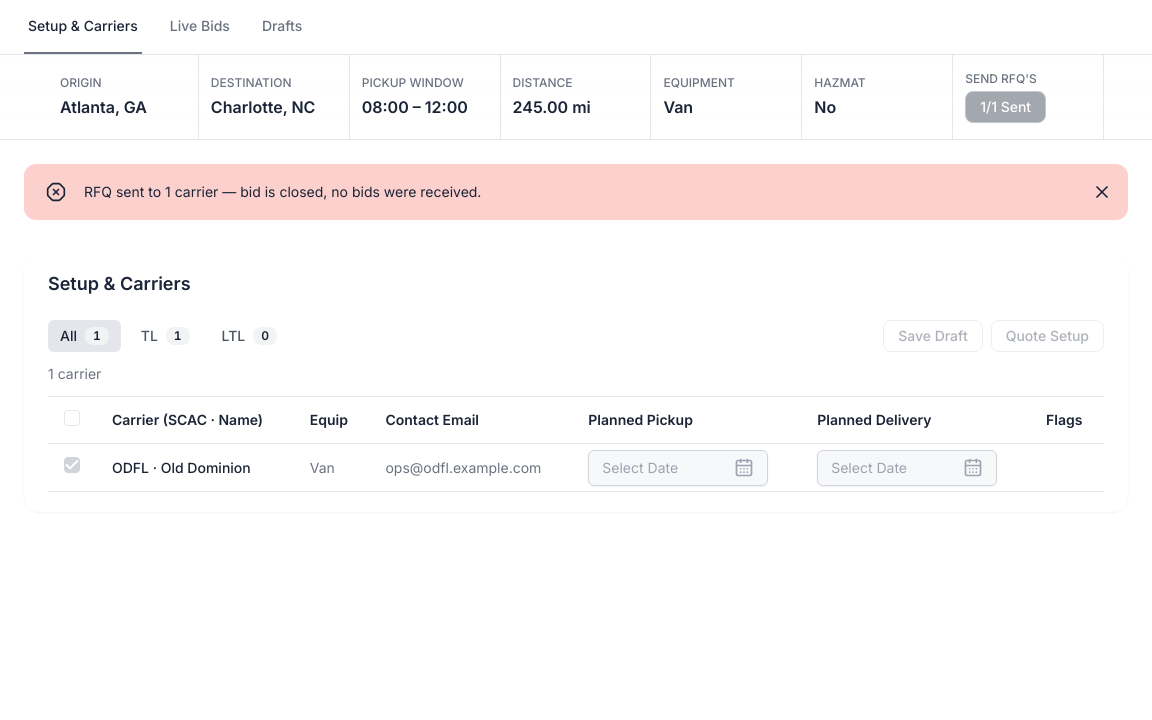
Test: SpotBoardTab › recovers bid links on fresh mount when the persisted quote is already open with tokens
Click the button "Live Bids" at (200, 35), box [166, 16, 234, 54]
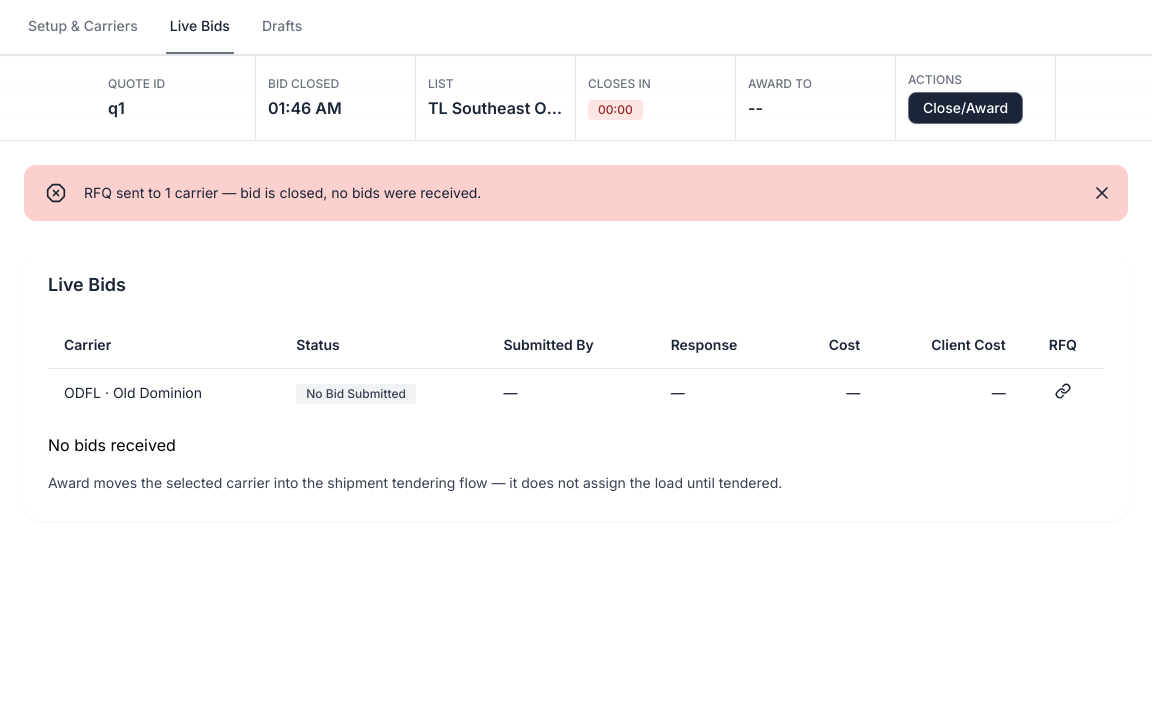
Now the link named "Open bid link for ODFL · Old Dominion" is shown, box [1055, 382, 1071, 398]
